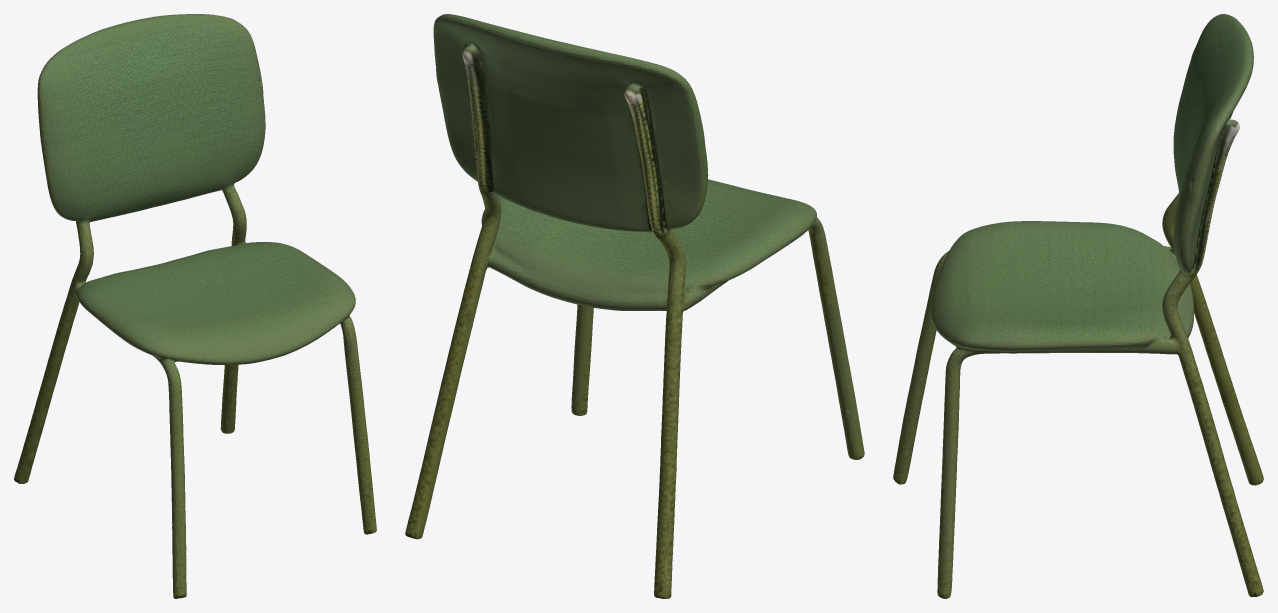
File: chair__chair#5.glb
3 renders of one model, left to right at view 1: azimuth 30°, elevation 25°; view 2: azimuth 150°, elevation 25°; view 3: azimuth 270°, elevation 25°, orthographic. The views are drawn at different scales.
Visible parts, largest first — view 1: tmpcnnoytq9.ply; view 2: tmpcnnoytq9.ply; view 3: tmpcnnoytq9.ply.
Part boxes in pixels (box(x1,y1,x2,y2)): tmpcnnoytq9.ply: box(14, 14, 376, 598); tmpcnnoytq9.ply: box(405, 14, 864, 598); tmpcnnoytq9.ply: box(893, 14, 1263, 598).
Bounding box in the file's own units: 1.06 × 1.99 × 1.37.
1 material, 1 textured.
